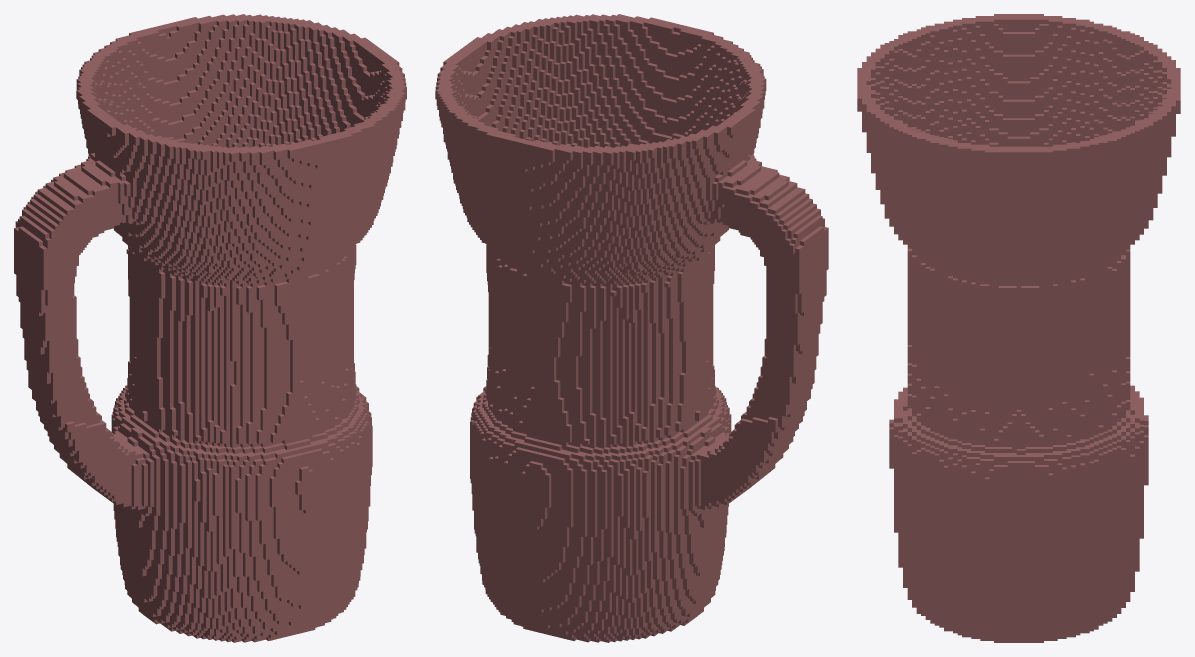
The model's file is kuvshchock.obj.
3 renders of one model, left to right at view 1: azimuth 30°, elevation 25°; view 2: azimuth 150°, elevation 25°; view 3: azimuth 270°, elevation 25°, orthographic.
Size of the model in its own units: 90 by 125 by 71.
Materials: 1 (1 with a texture image).
